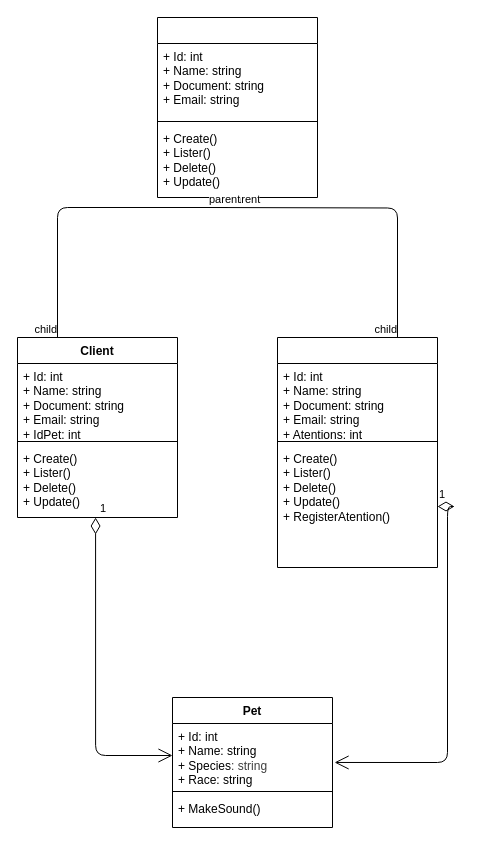
The diagram is 482 pixels wide and 848 high, and some of its shapes have lost their labels. The box of each missing label's shape, as (x1, y1, x2, y2) in pixels:
Person: (156, 16, 318, 198)
Vet: (276, 336, 438, 568)
